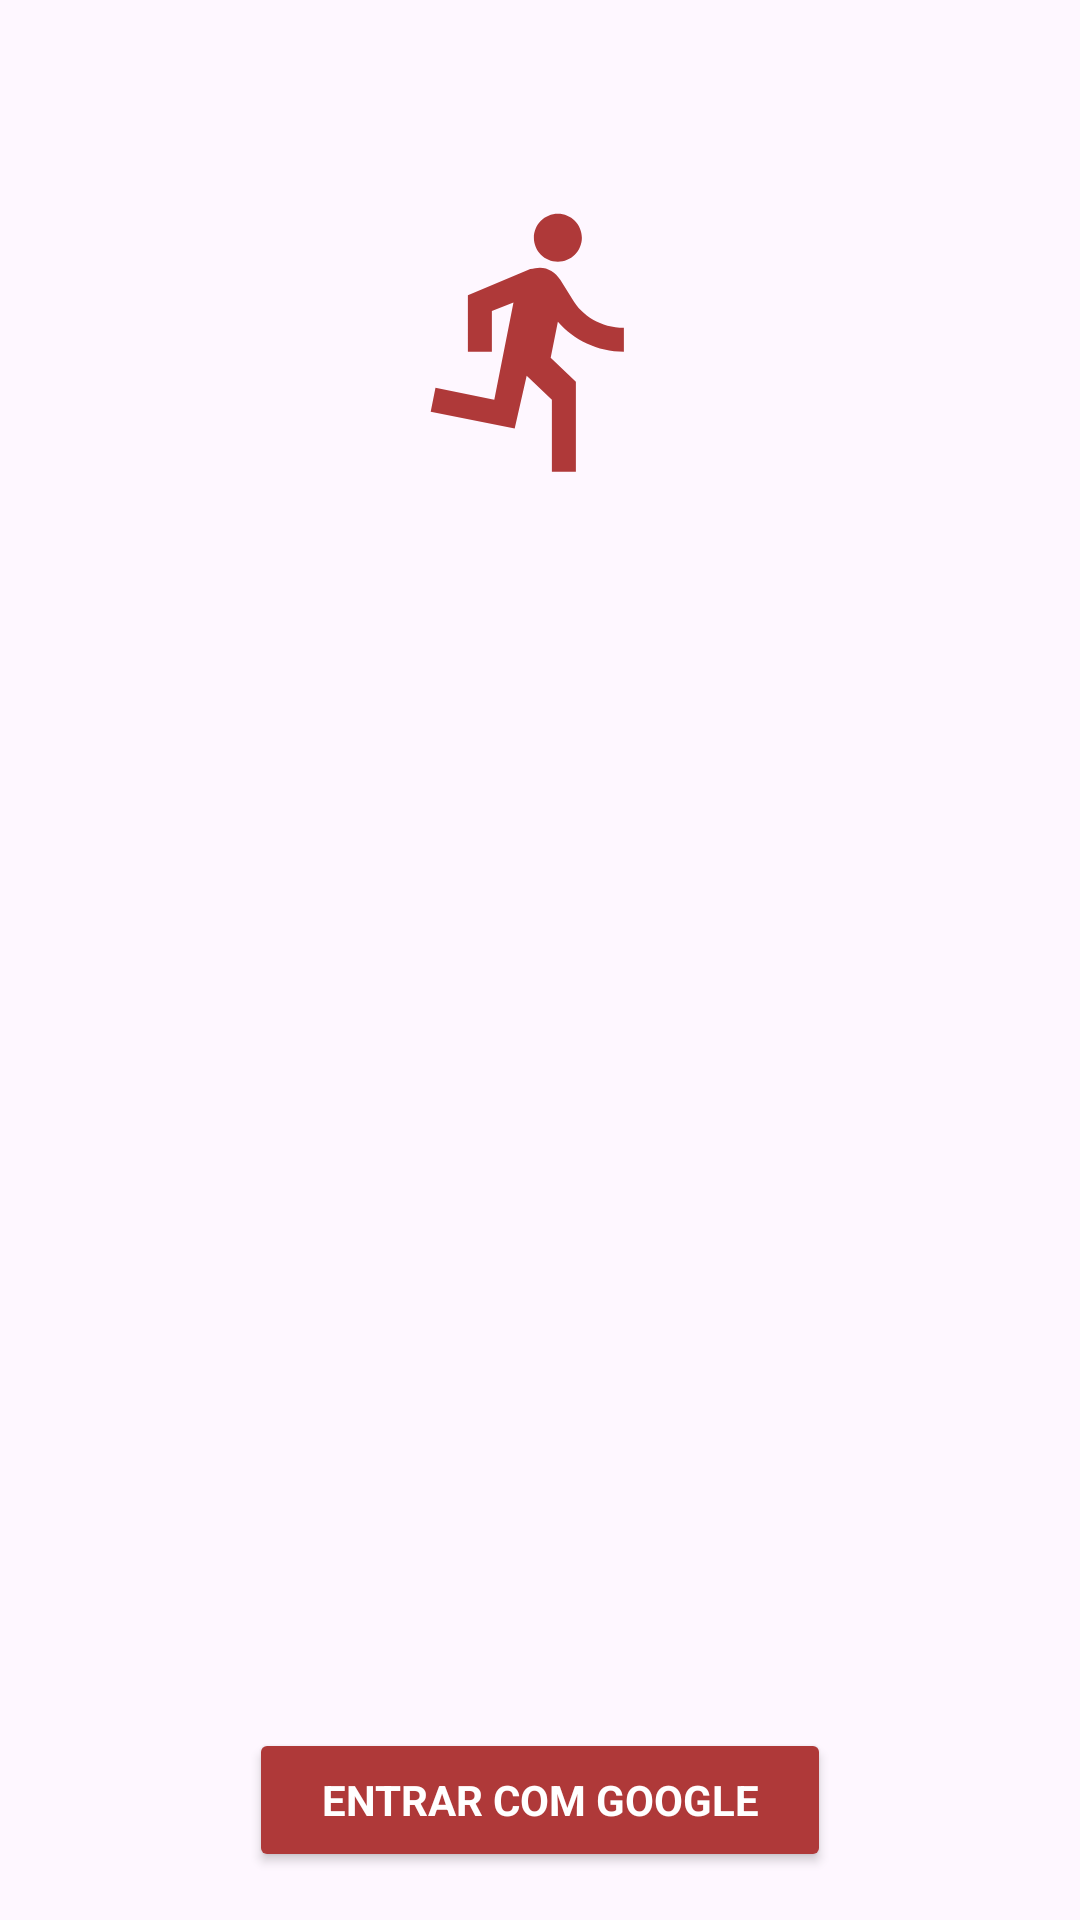

Where icons sit on this 1080 × 1920 app screen, as {"left": x1, "top": y1, "right": x2, "bottom": y2}:
runaway app: {"left": 430, "top": 213, "right": 624, "bottom": 472}
